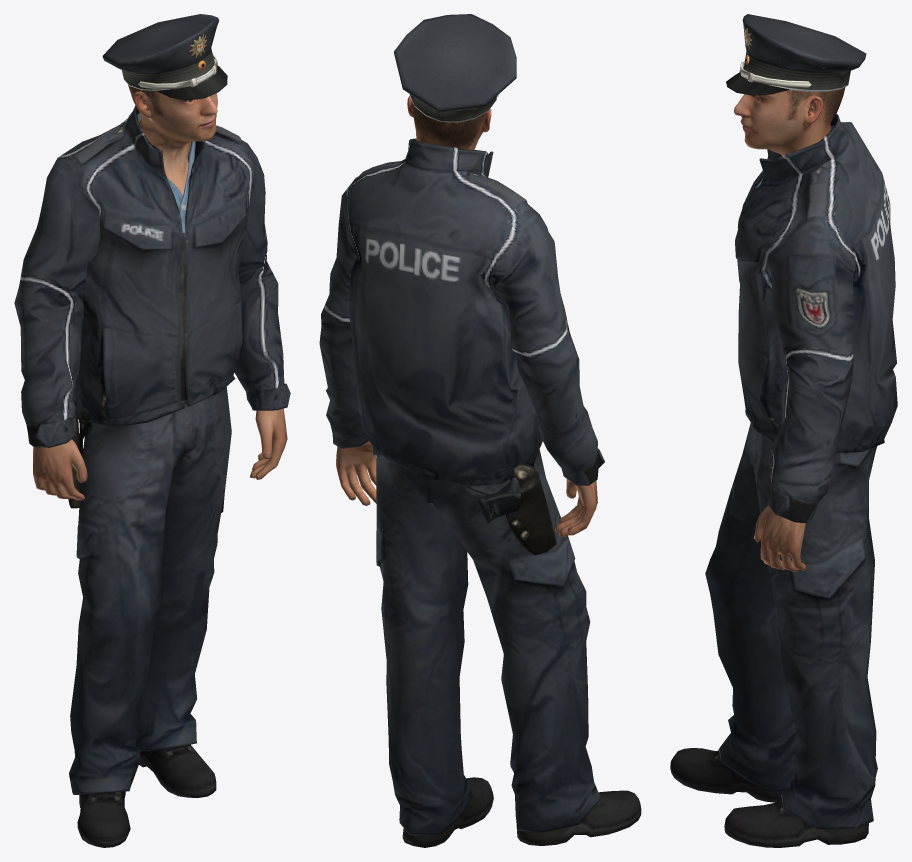
The model's file is policeman.obj.
The picture shows the model from 3 angles, left to right: view 1: azimuth 30°, elevation 25°; view 2: azimuth 150°, elevation 25°; view 3: azimuth 270°, elevation 25°; orthographic projection. The views are drawn at different scales.
Size of the model in its own units: 1.29 by 3.68 by 0.9267.
Materials: 3 (3 with a texture image).
